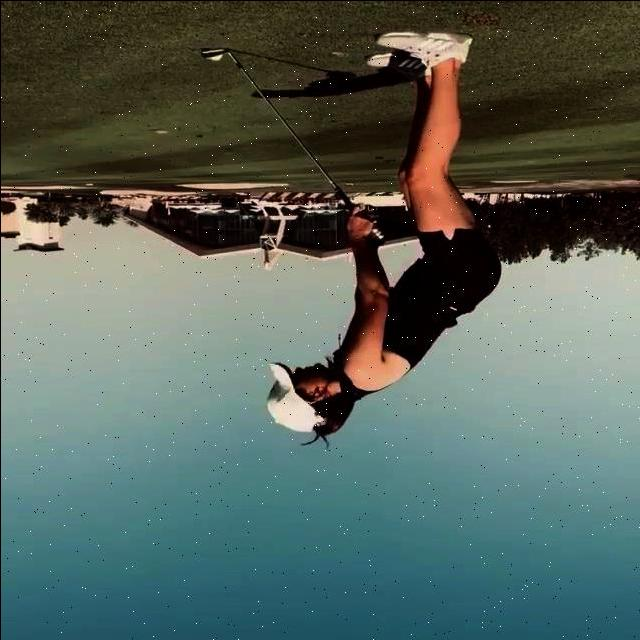ClubHandle: (195, 41, 385, 246)
ClubHead: (196, 45, 222, 58)
GolfBall: (209, 54, 224, 60)
